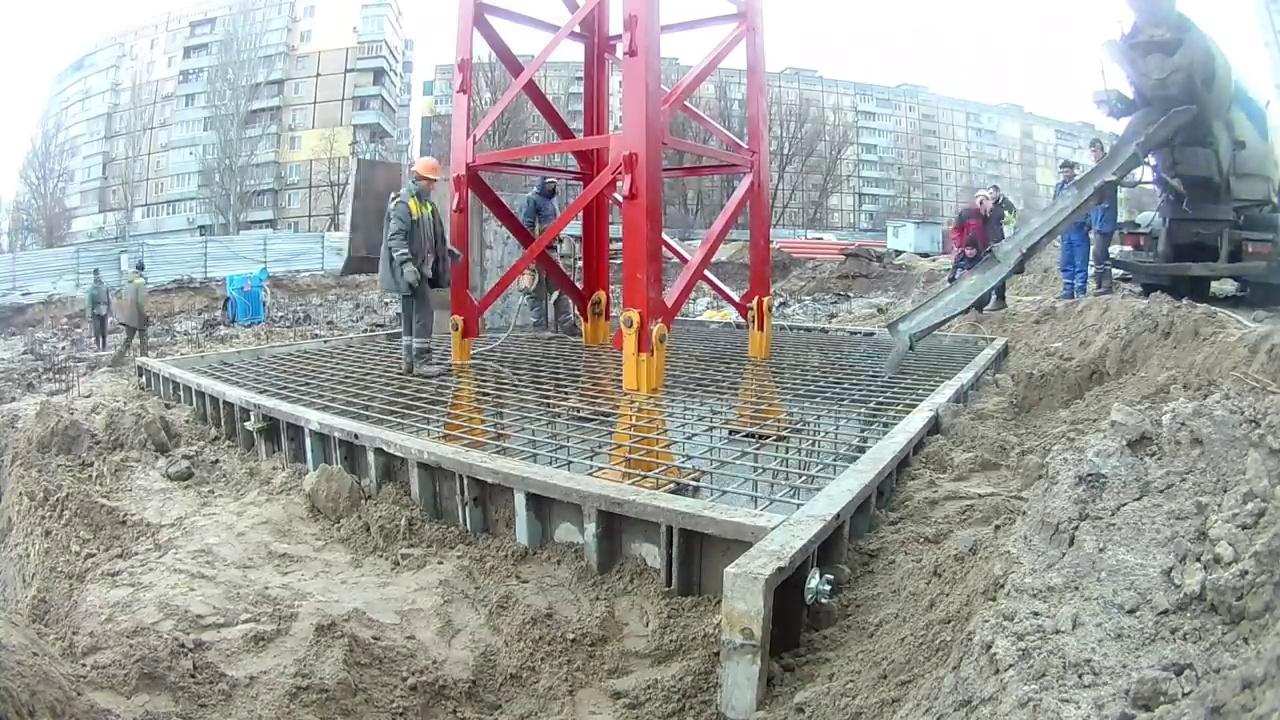helmet: (408, 155, 442, 180)
helmet-off: (532, 170, 560, 213), (1057, 158, 1080, 190), (960, 234, 981, 265), (986, 183, 1005, 214), (1088, 139, 1107, 167), (131, 260, 145, 283), (91, 267, 102, 289)
helmet-on: (408, 155, 442, 201)
person: (380, 153, 449, 381), (521, 174, 583, 344), (1052, 158, 1090, 301), (1085, 139, 1119, 295), (985, 182, 1018, 311), (116, 259, 151, 367), (946, 235, 991, 316), (953, 189, 991, 260), (86, 267, 111, 355)
